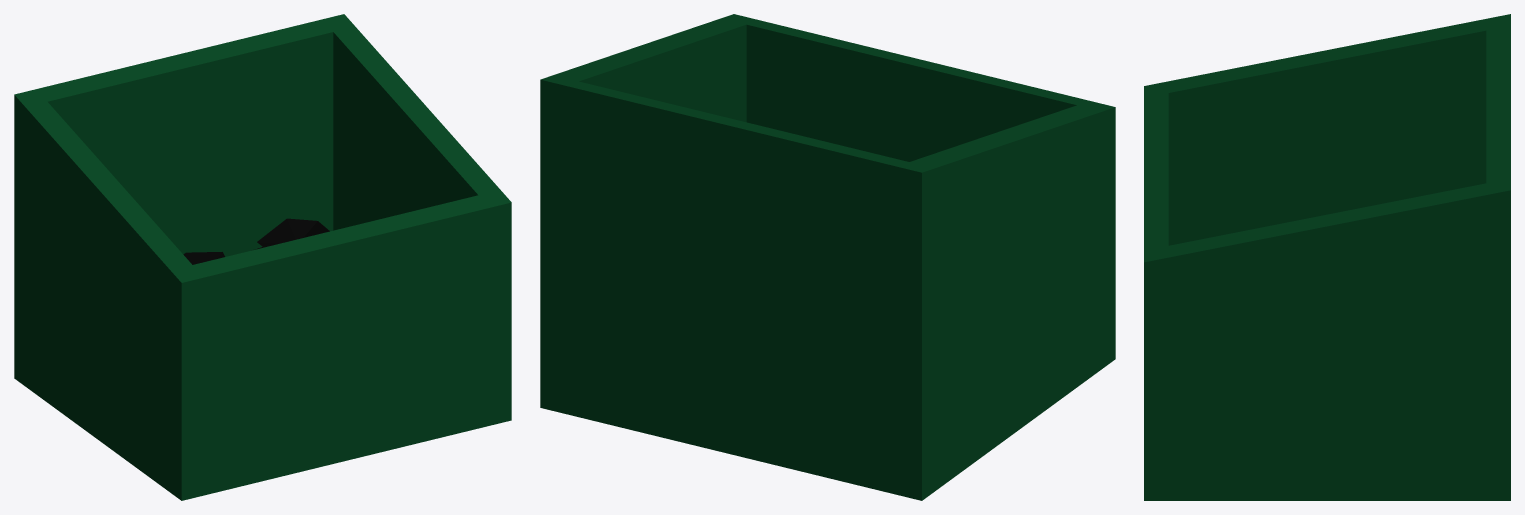
File: dumpster.fbx
The picture shows the model from 3 angles, left to right: view 1: azimuth 30°, elevation 25°; view 2: azimuth 150°, elevation 25°; view 3: azimuth 270°, elevation 25°; orthographic projection. The views are drawn at different scales.
Parts seen in each view (by area): view 1: Cube, Cube.002; view 2: Cube; view 3: Cube.
Part boxes in pixels (x1,y1,x2,y2): Cube: (14,14,511,500); Cube.002: (254,218,329,249); Cube: (540,14,1115,500); Cube: (1144,14,1510,500).
Size of the model in its own units: 70.2 by 57.68 by 61.7.
